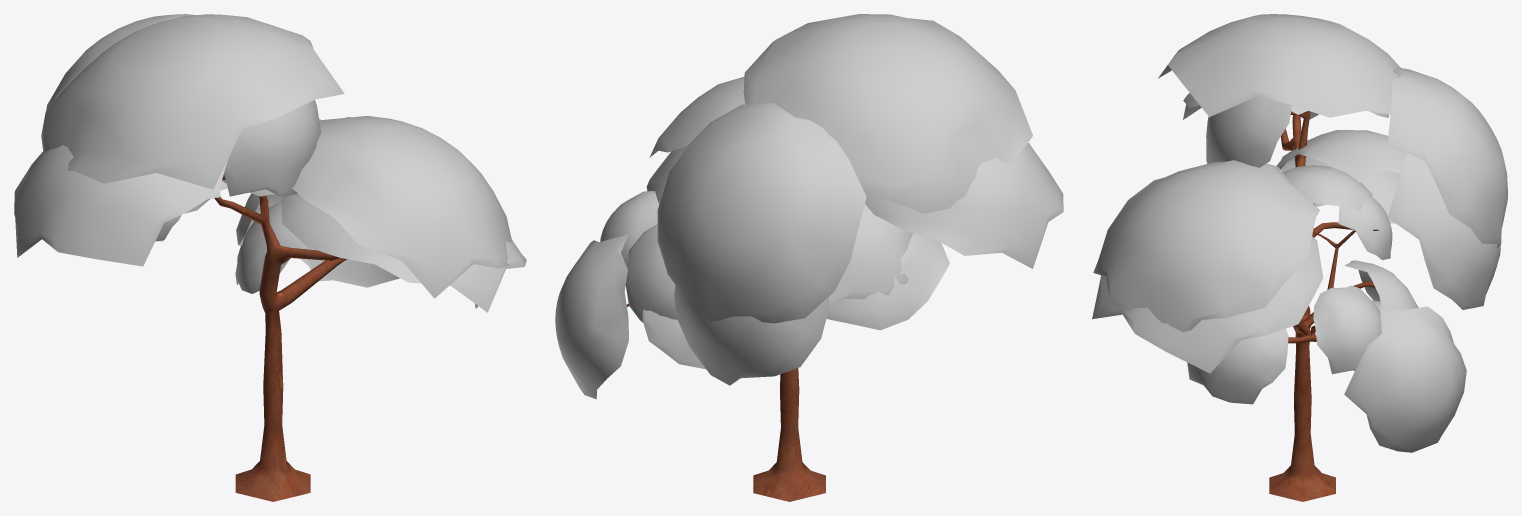
File: Tree_2.fbx
3 renders of one model, left to right at view 1: azimuth 30°, elevation 25°; view 2: azimuth 150°, elevation 25°; view 3: azimuth 270°, elevation 25°, orthographic. The views are drawn at different scales.
Visible parts, largest first — view 1: Tree_2; view 2: Tree_2; view 3: Tree_2.
Part boxes in pixels (x1,y1,x2,y2): Tree_2: (14,14,526,501); Tree_2: (555,14,1063,501); Tree_2: (1092,14,1507,501).
Bounding box in the file's own units: 829 × 860 × 760.
